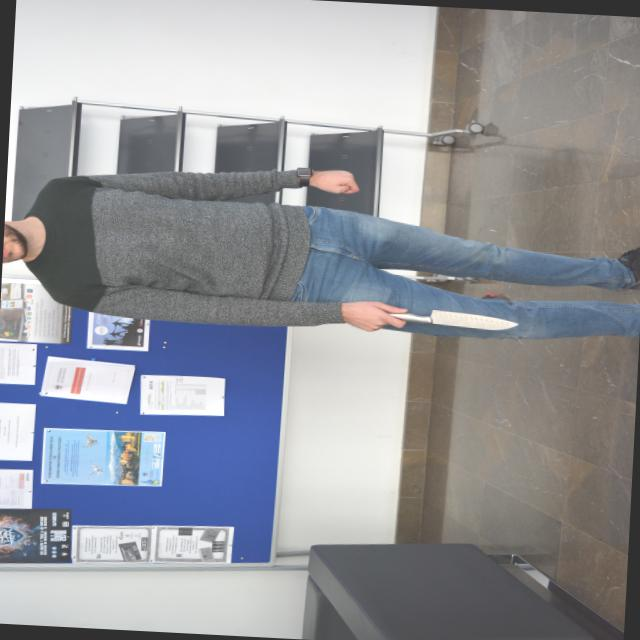knife: (376, 304, 526, 336)
